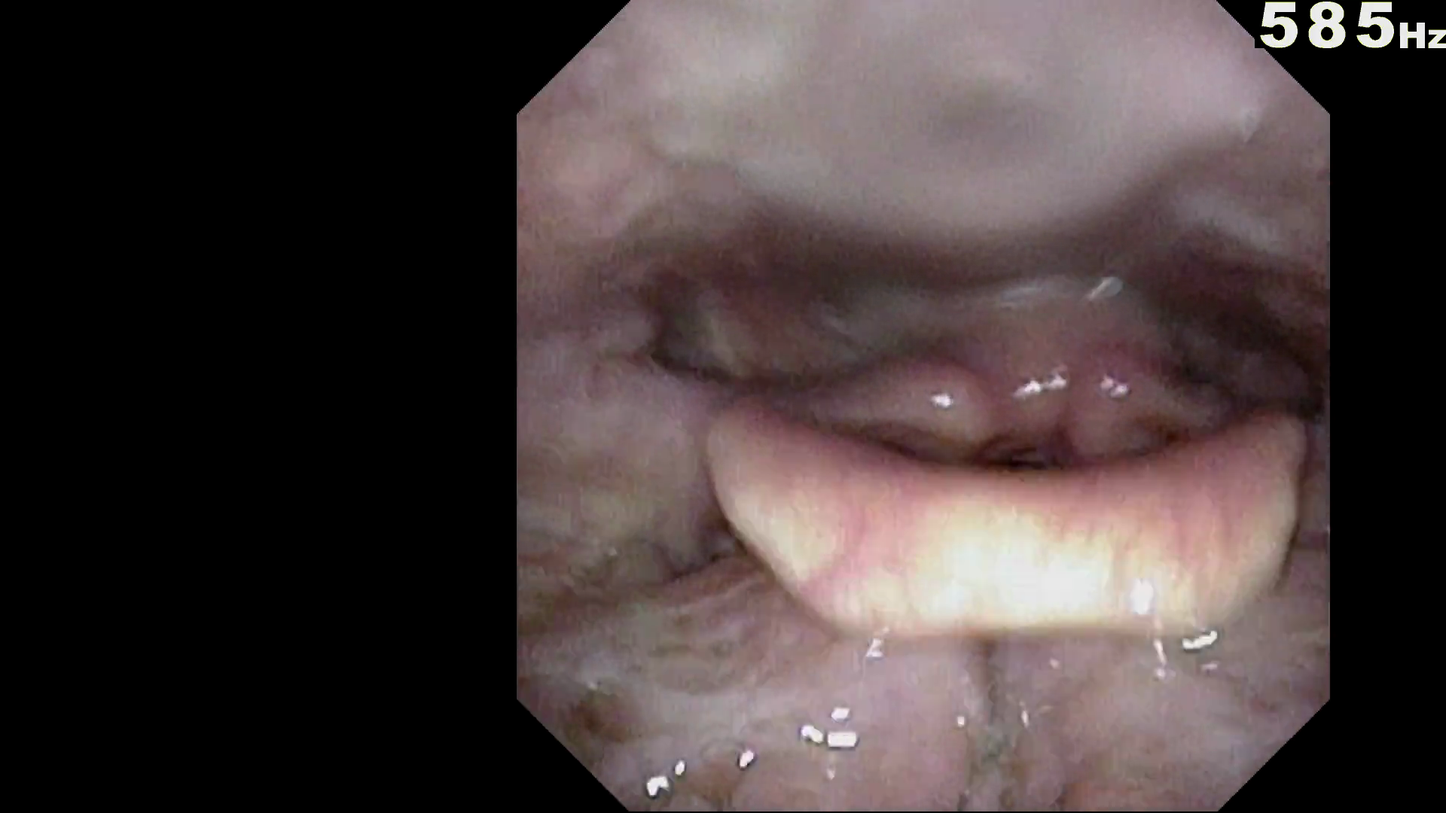epiglottis: (690, 398, 1318, 671)
trachea: (979, 429, 1056, 518)
